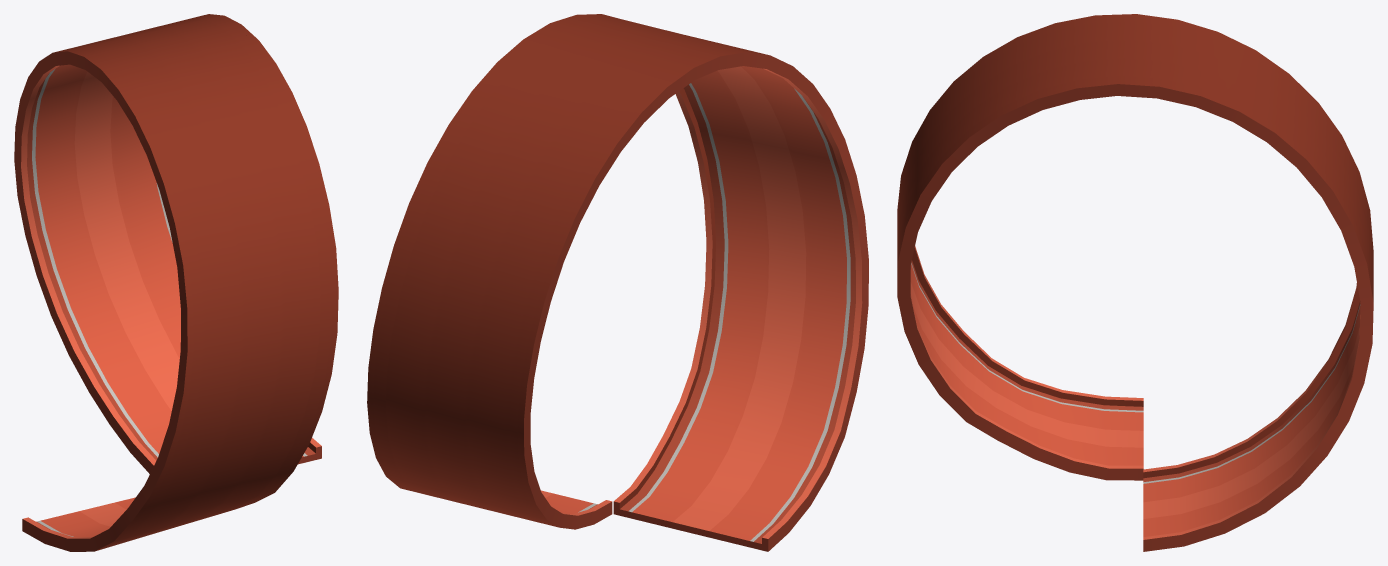
Rendered from Yellow-3Race-Circuit-01.FBX.
3 renders of one model, left to right at view 1: azimuth 30°, elevation 25°; view 2: azimuth 150°, elevation 25°; view 3: azimuth 270°, elevation 25°, orthographic. The views are drawn at different scales.
Parts seen in each view (by area): view 1: Yellow-3Race-Circuit-01; view 2: Yellow-3Race-Circuit-01; view 3: Yellow-3Race-Circuit-01.
Part boxes in pixels (bbox=[...]): Yellow-3Race-Circuit-01: bbox=[14, 14, 338, 551]; Yellow-3Race-Circuit-01: bbox=[367, 14, 868, 551]; Yellow-3Race-Circuit-01: bbox=[897, 14, 1373, 551].
Bounding box in the file's own units: 2531 × 3602 × 3600.
